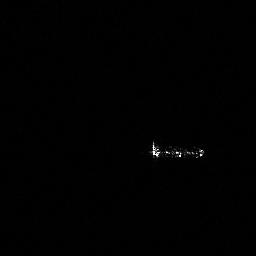ship: (147, 139, 206, 163)
